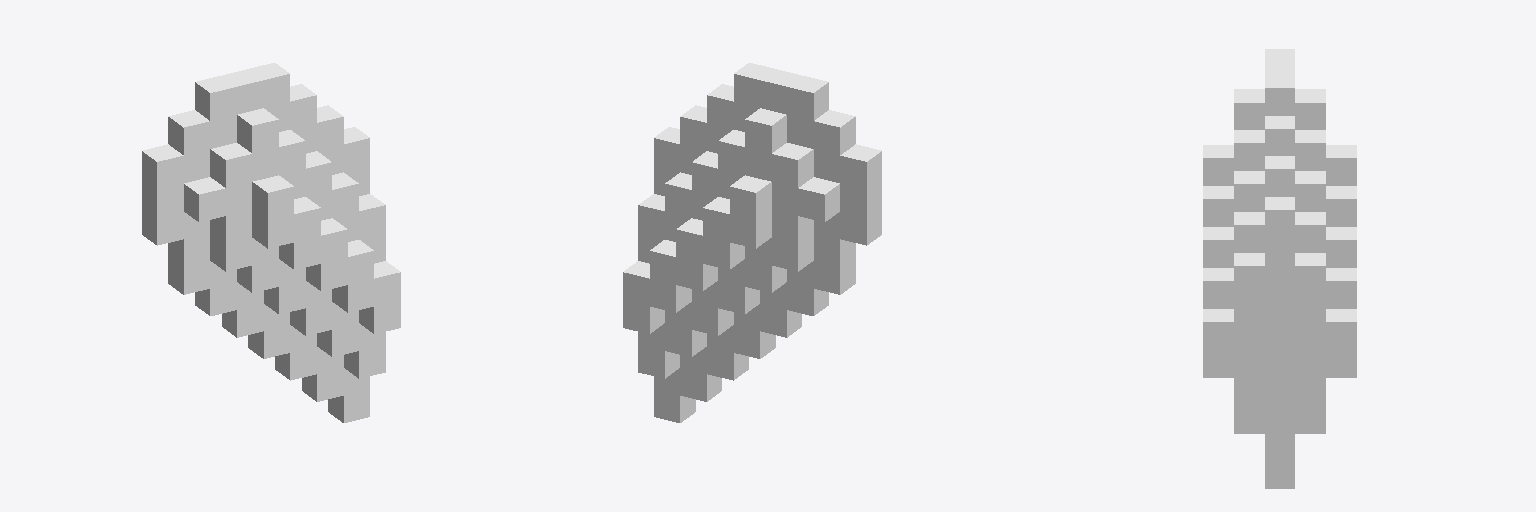
Rendered from heart2.obj.
The picture shows the model from 3 angles: view 1: azimuth 30°, elevation 25°; view 2: azimuth 150°, elevation 25°; view 3: azimuth 270°, elevation 25°; orthographic projection.
Visible parts, largest first — view 1: heart2; view 2: heart2; view 3: heart2.
Boxes of the visible parts, <box> form: heart2: <box>142,63,400,422</box>; heart2: <box>623,63,881,422</box>; heart2: <box>1203,49,1356,488</box>.
Size of the model in its own units: 8 by 13 by 5.